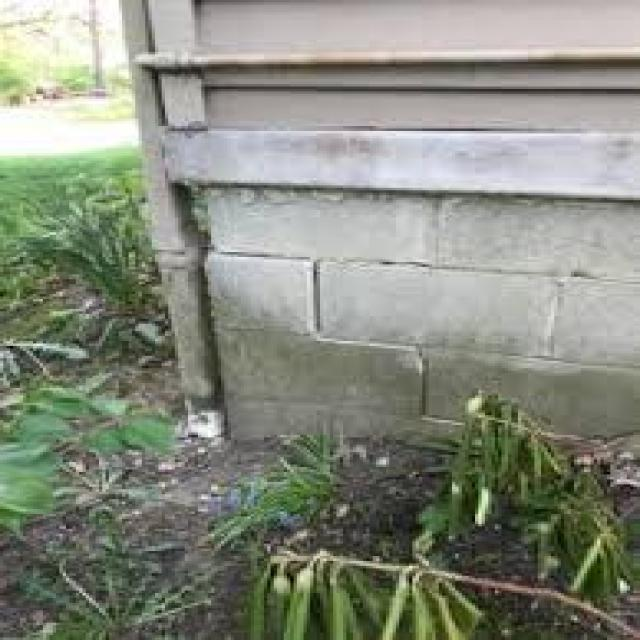Crack: (204, 245, 458, 425)
